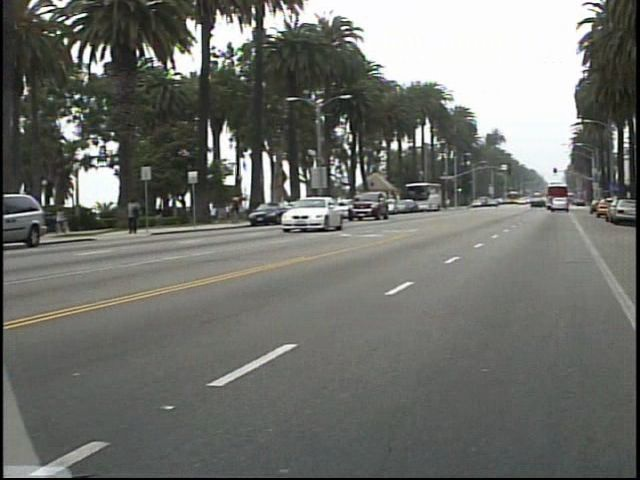person: (132, 194, 154, 236), (233, 189, 253, 224)
